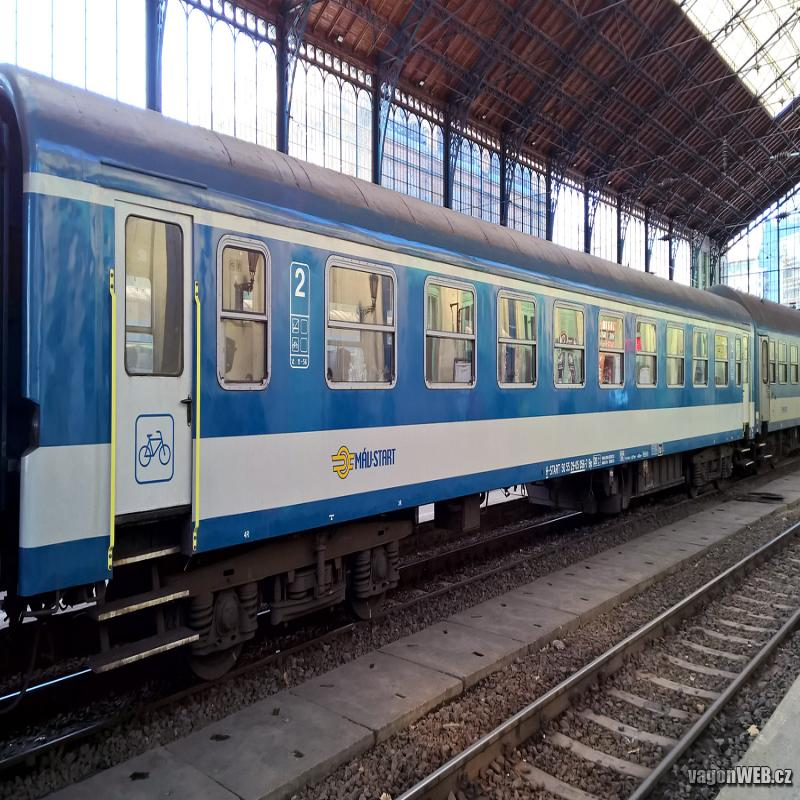train: (1, 62, 759, 773)
